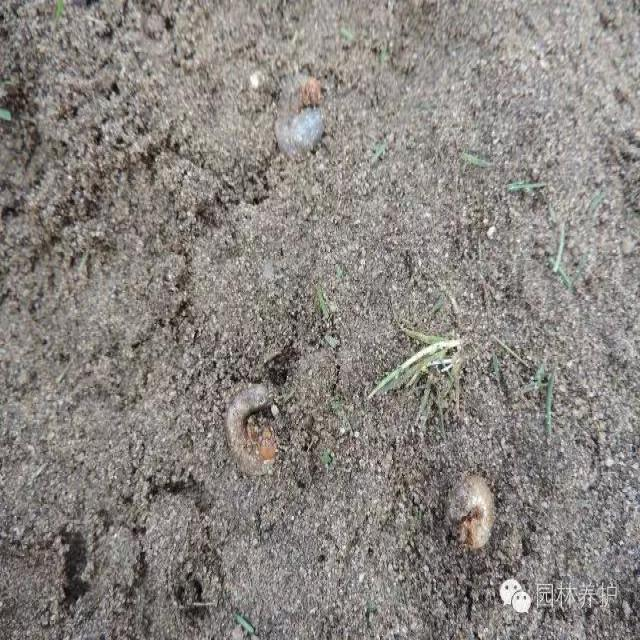Grub-Adult-: (223, 376, 286, 482), (264, 64, 330, 164), (444, 473, 504, 558)
